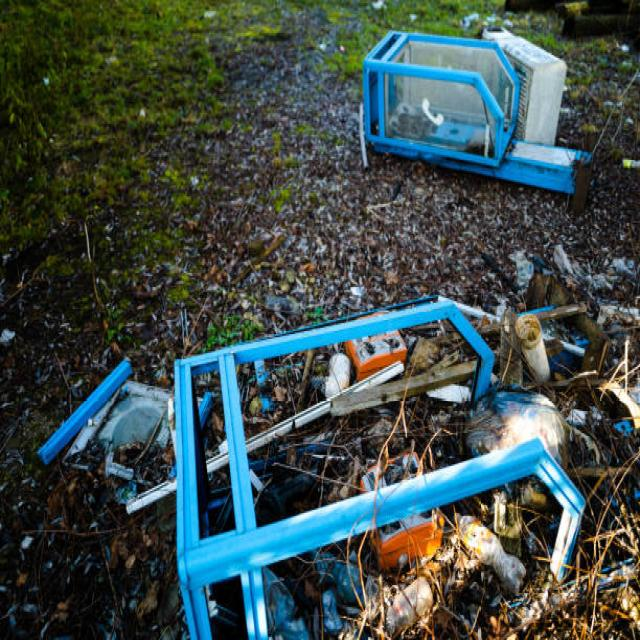metal: (163, 333, 586, 585)
